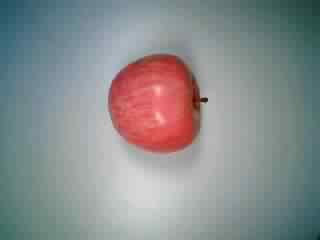apple: (104, 54, 209, 156)
